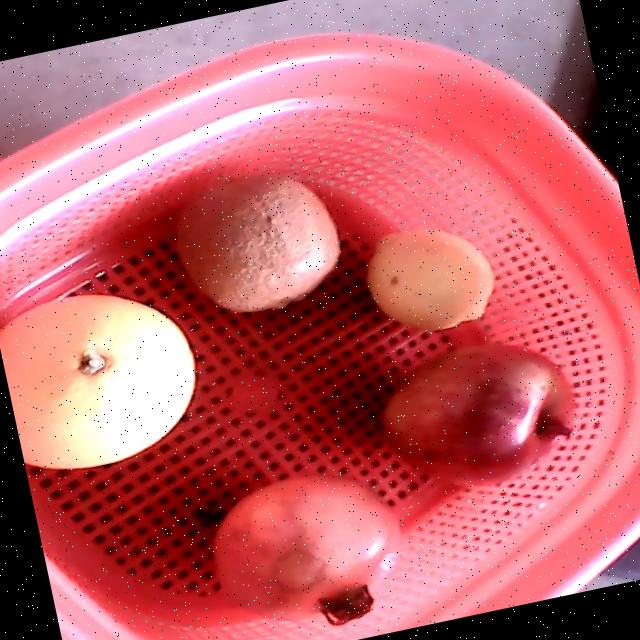apple: (383, 342, 572, 486)
kiwi: (176, 173, 337, 311)
lemon: (365, 229, 490, 329)
orange: (0, 294, 193, 468)
pomegranate: (214, 473, 398, 628)
